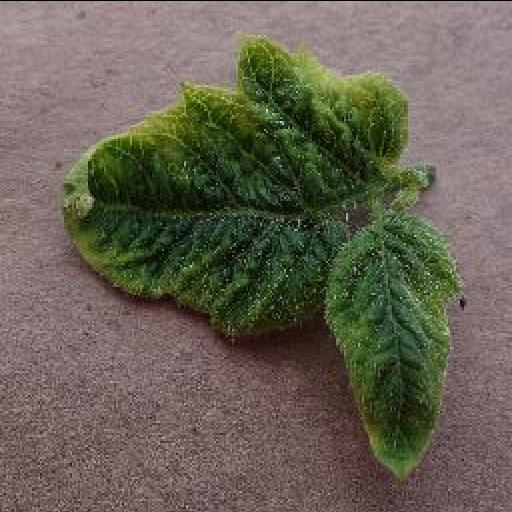disease_tomato: (60, 42, 410, 340), (324, 214, 462, 480)
